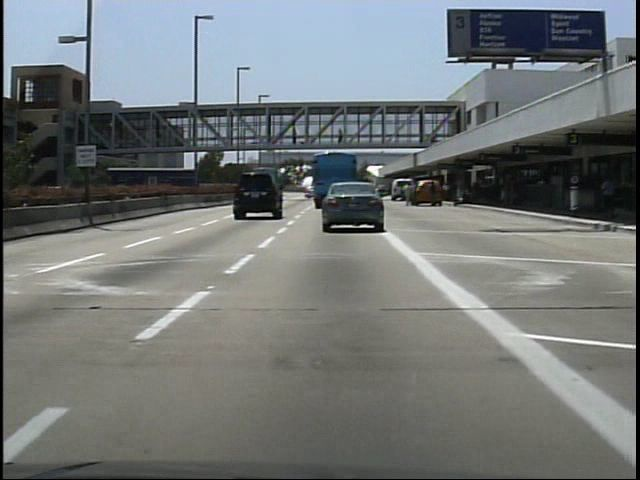person: (599, 170, 619, 218), (428, 178, 445, 211), (398, 180, 417, 209), (335, 126, 348, 152), (289, 124, 303, 145)
